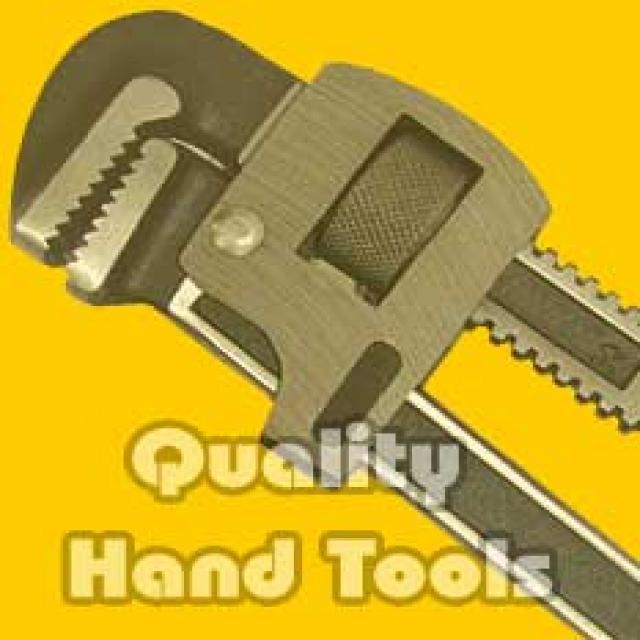wrench: (0, 0, 640, 461)
